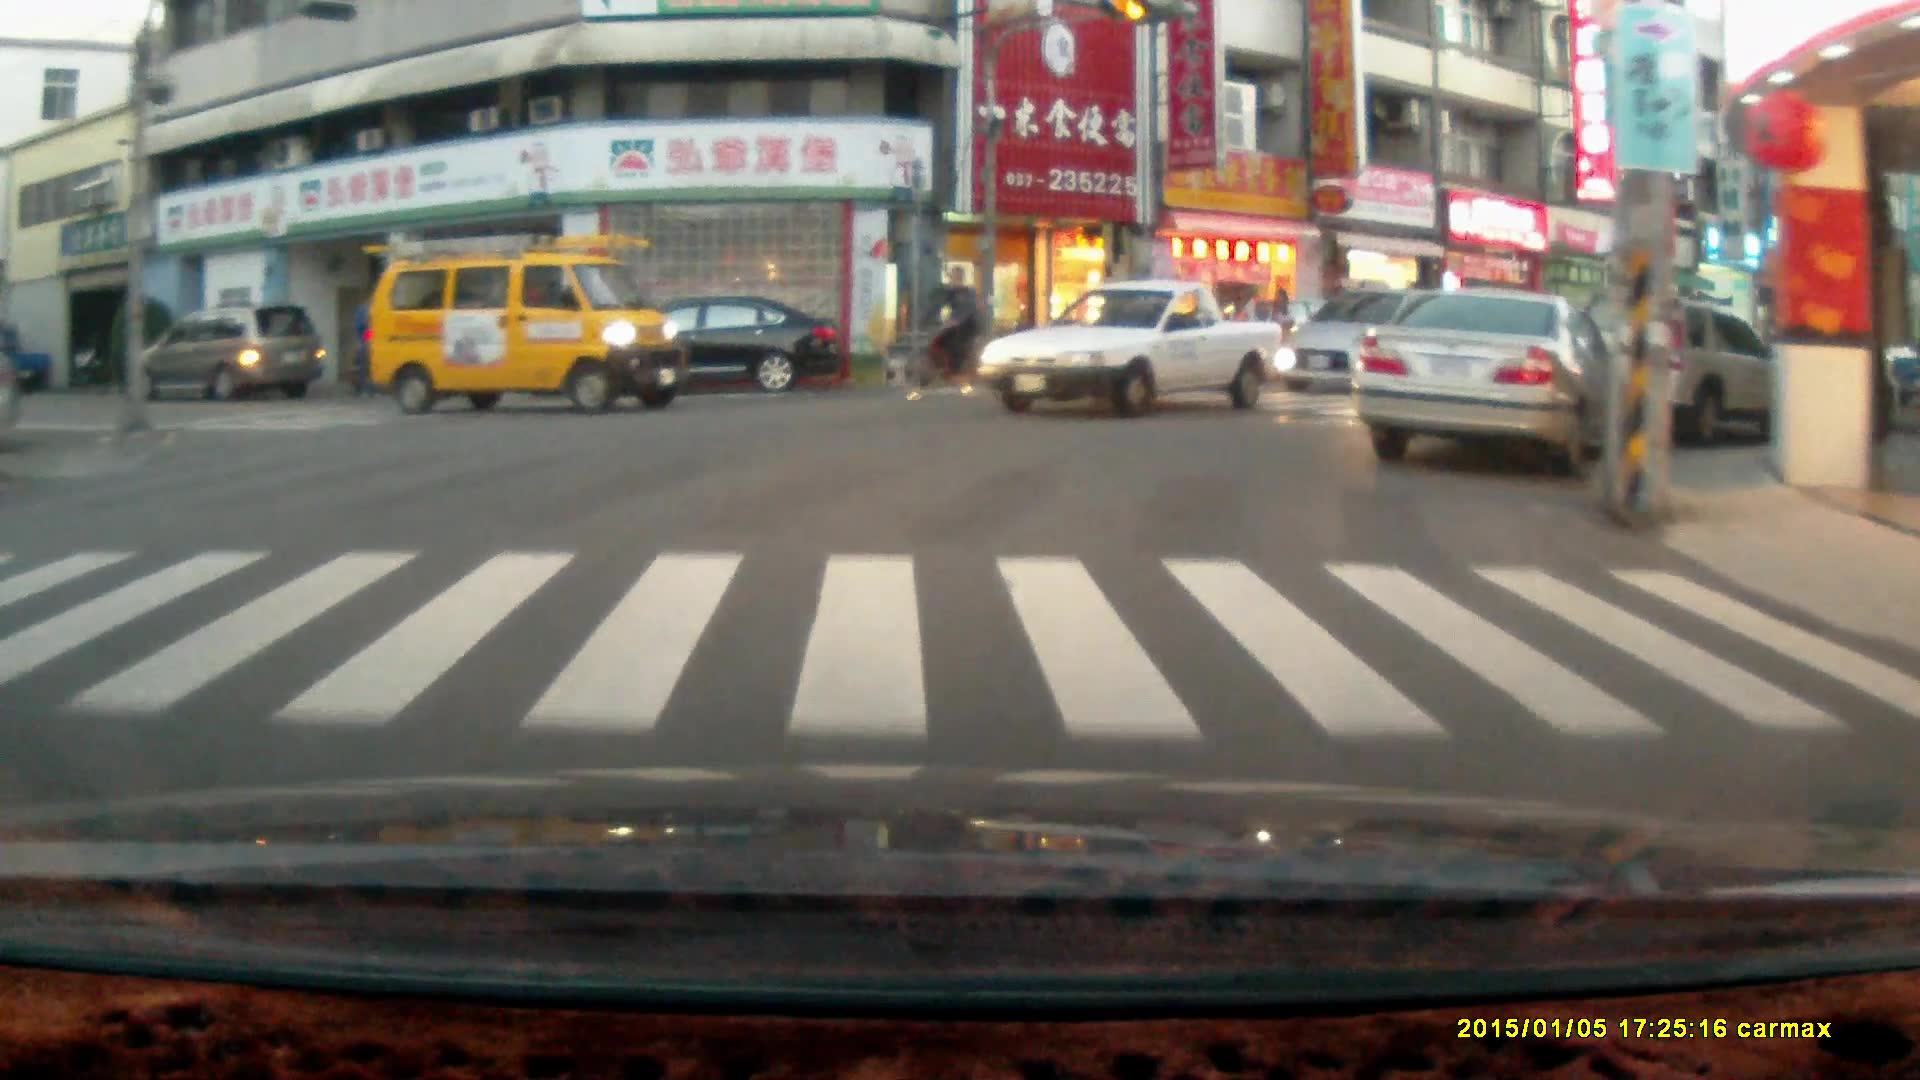pedestrian: (1228, 283, 1259, 373), (1268, 286, 1295, 380)
rider: (895, 260, 997, 400)
vehicle: (361, 232, 692, 419), (1355, 286, 1598, 480), (976, 277, 1292, 422), (1549, 289, 1806, 452), (581, 296, 841, 401), (124, 302, 334, 412)
